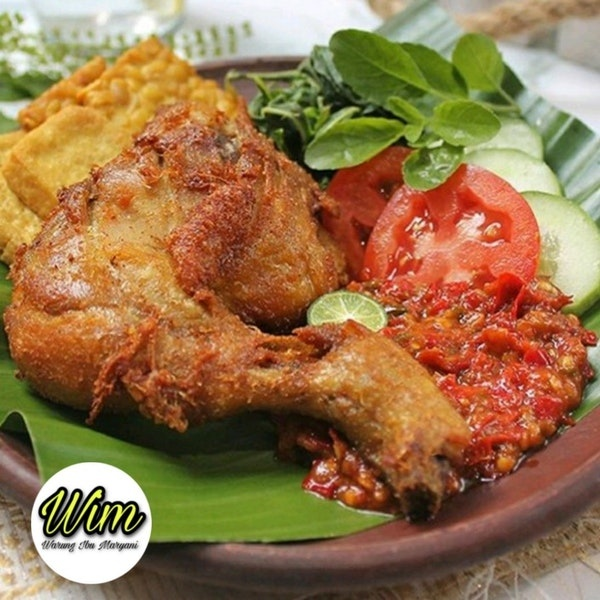ayam_goreng: (7, 107, 466, 508)
